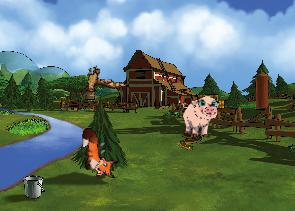eagle: (71, 55, 129, 108)
fox: (80, 126, 118, 180)
pig: (179, 94, 221, 139)
